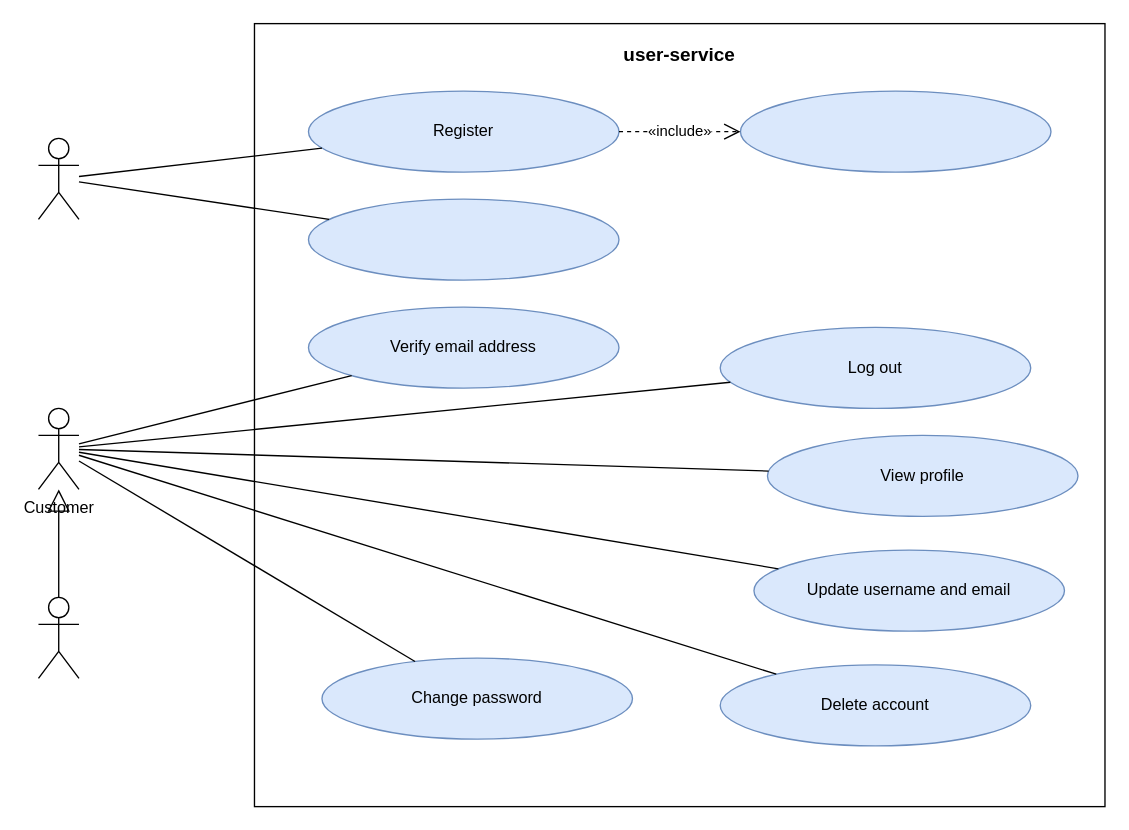
This 1129x830 diagram has some shape labels left out. The centre of each missing label's shape, as x and y in pixels:
Guest: point 58,178
Log in: point 463,239
Manager: point 58,637
Send email confirmation: point 895,131
